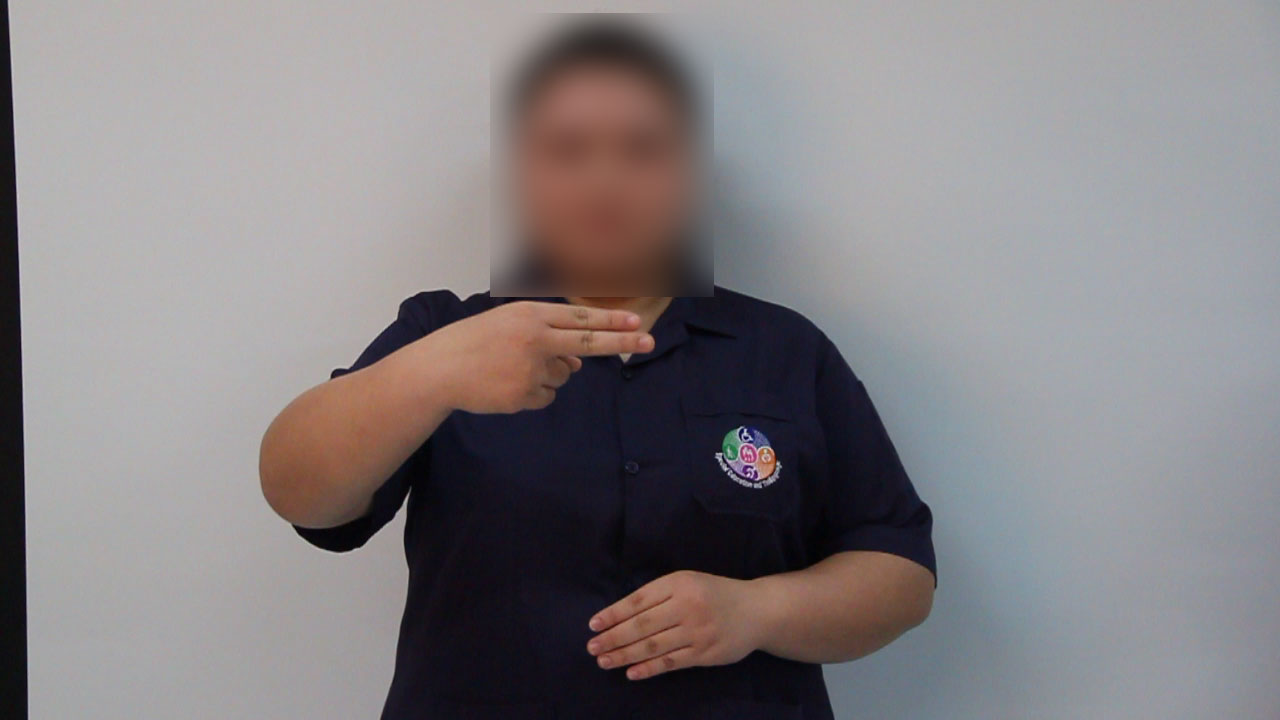hor: (434, 291, 669, 429)
